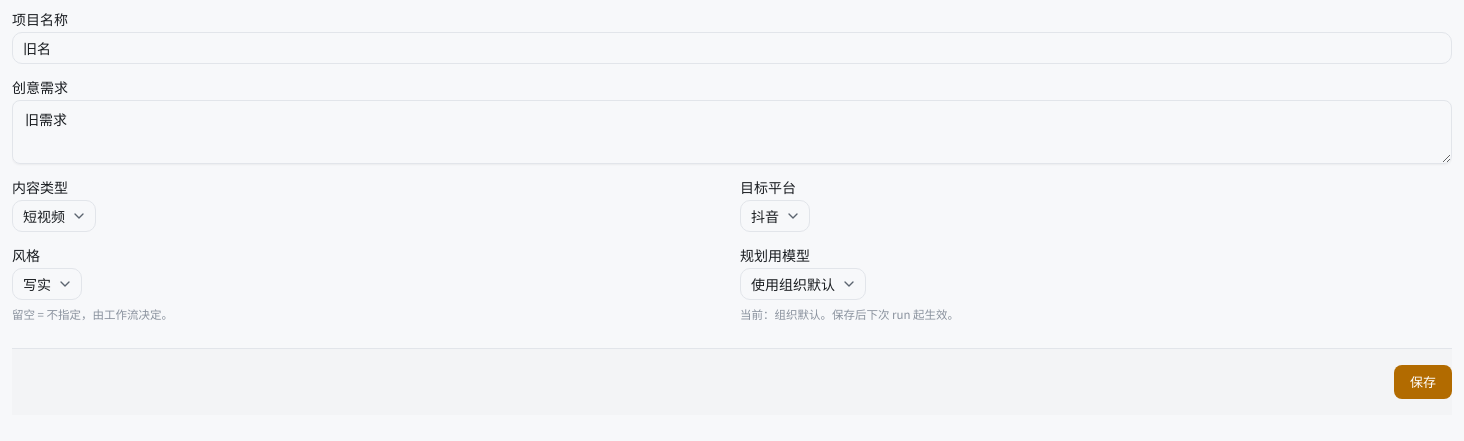
Test: EditProjectForm › blocks submit and shows an error when the name is cleared
Clear the field labelled "项目名称" at (732, 48), box [12,32,1452,64]
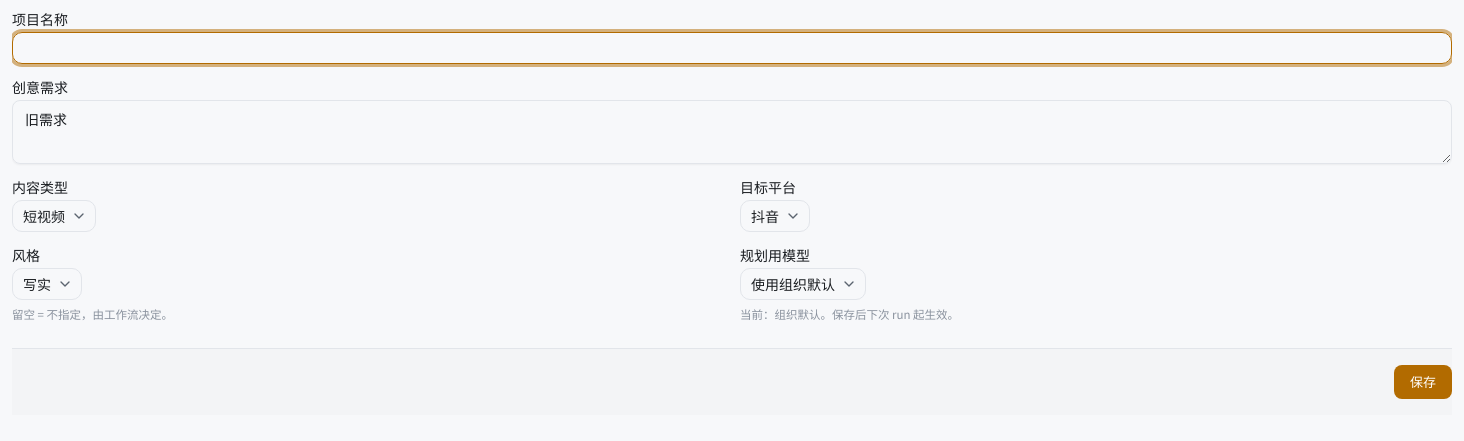
Click the button "保存" at (1423, 382), box [1394,365,1452,399]
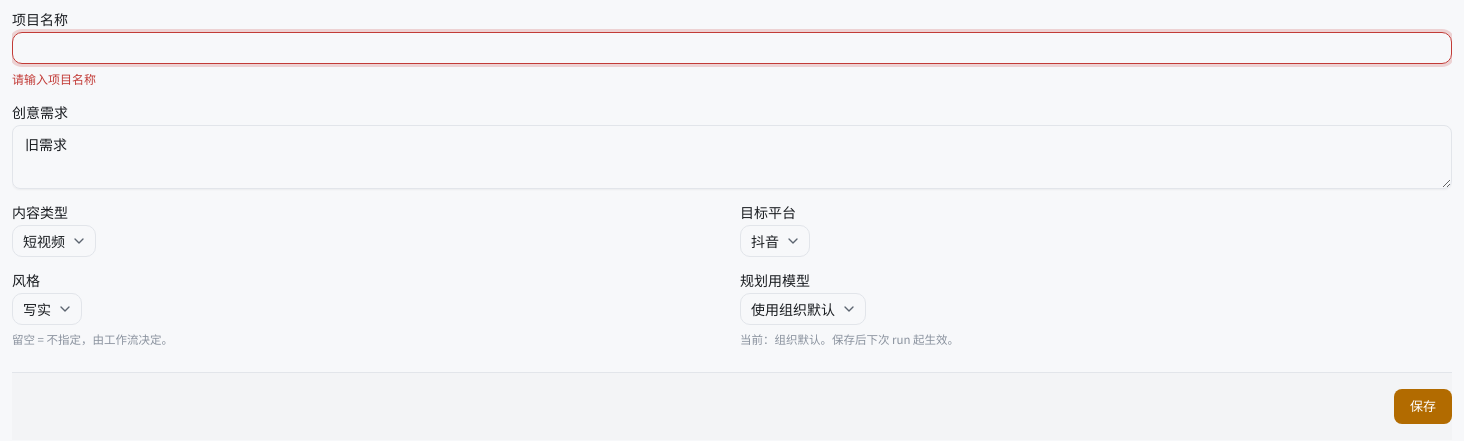
Check: the text "请输入项目名称" is shown, box [12,70,96,87]
